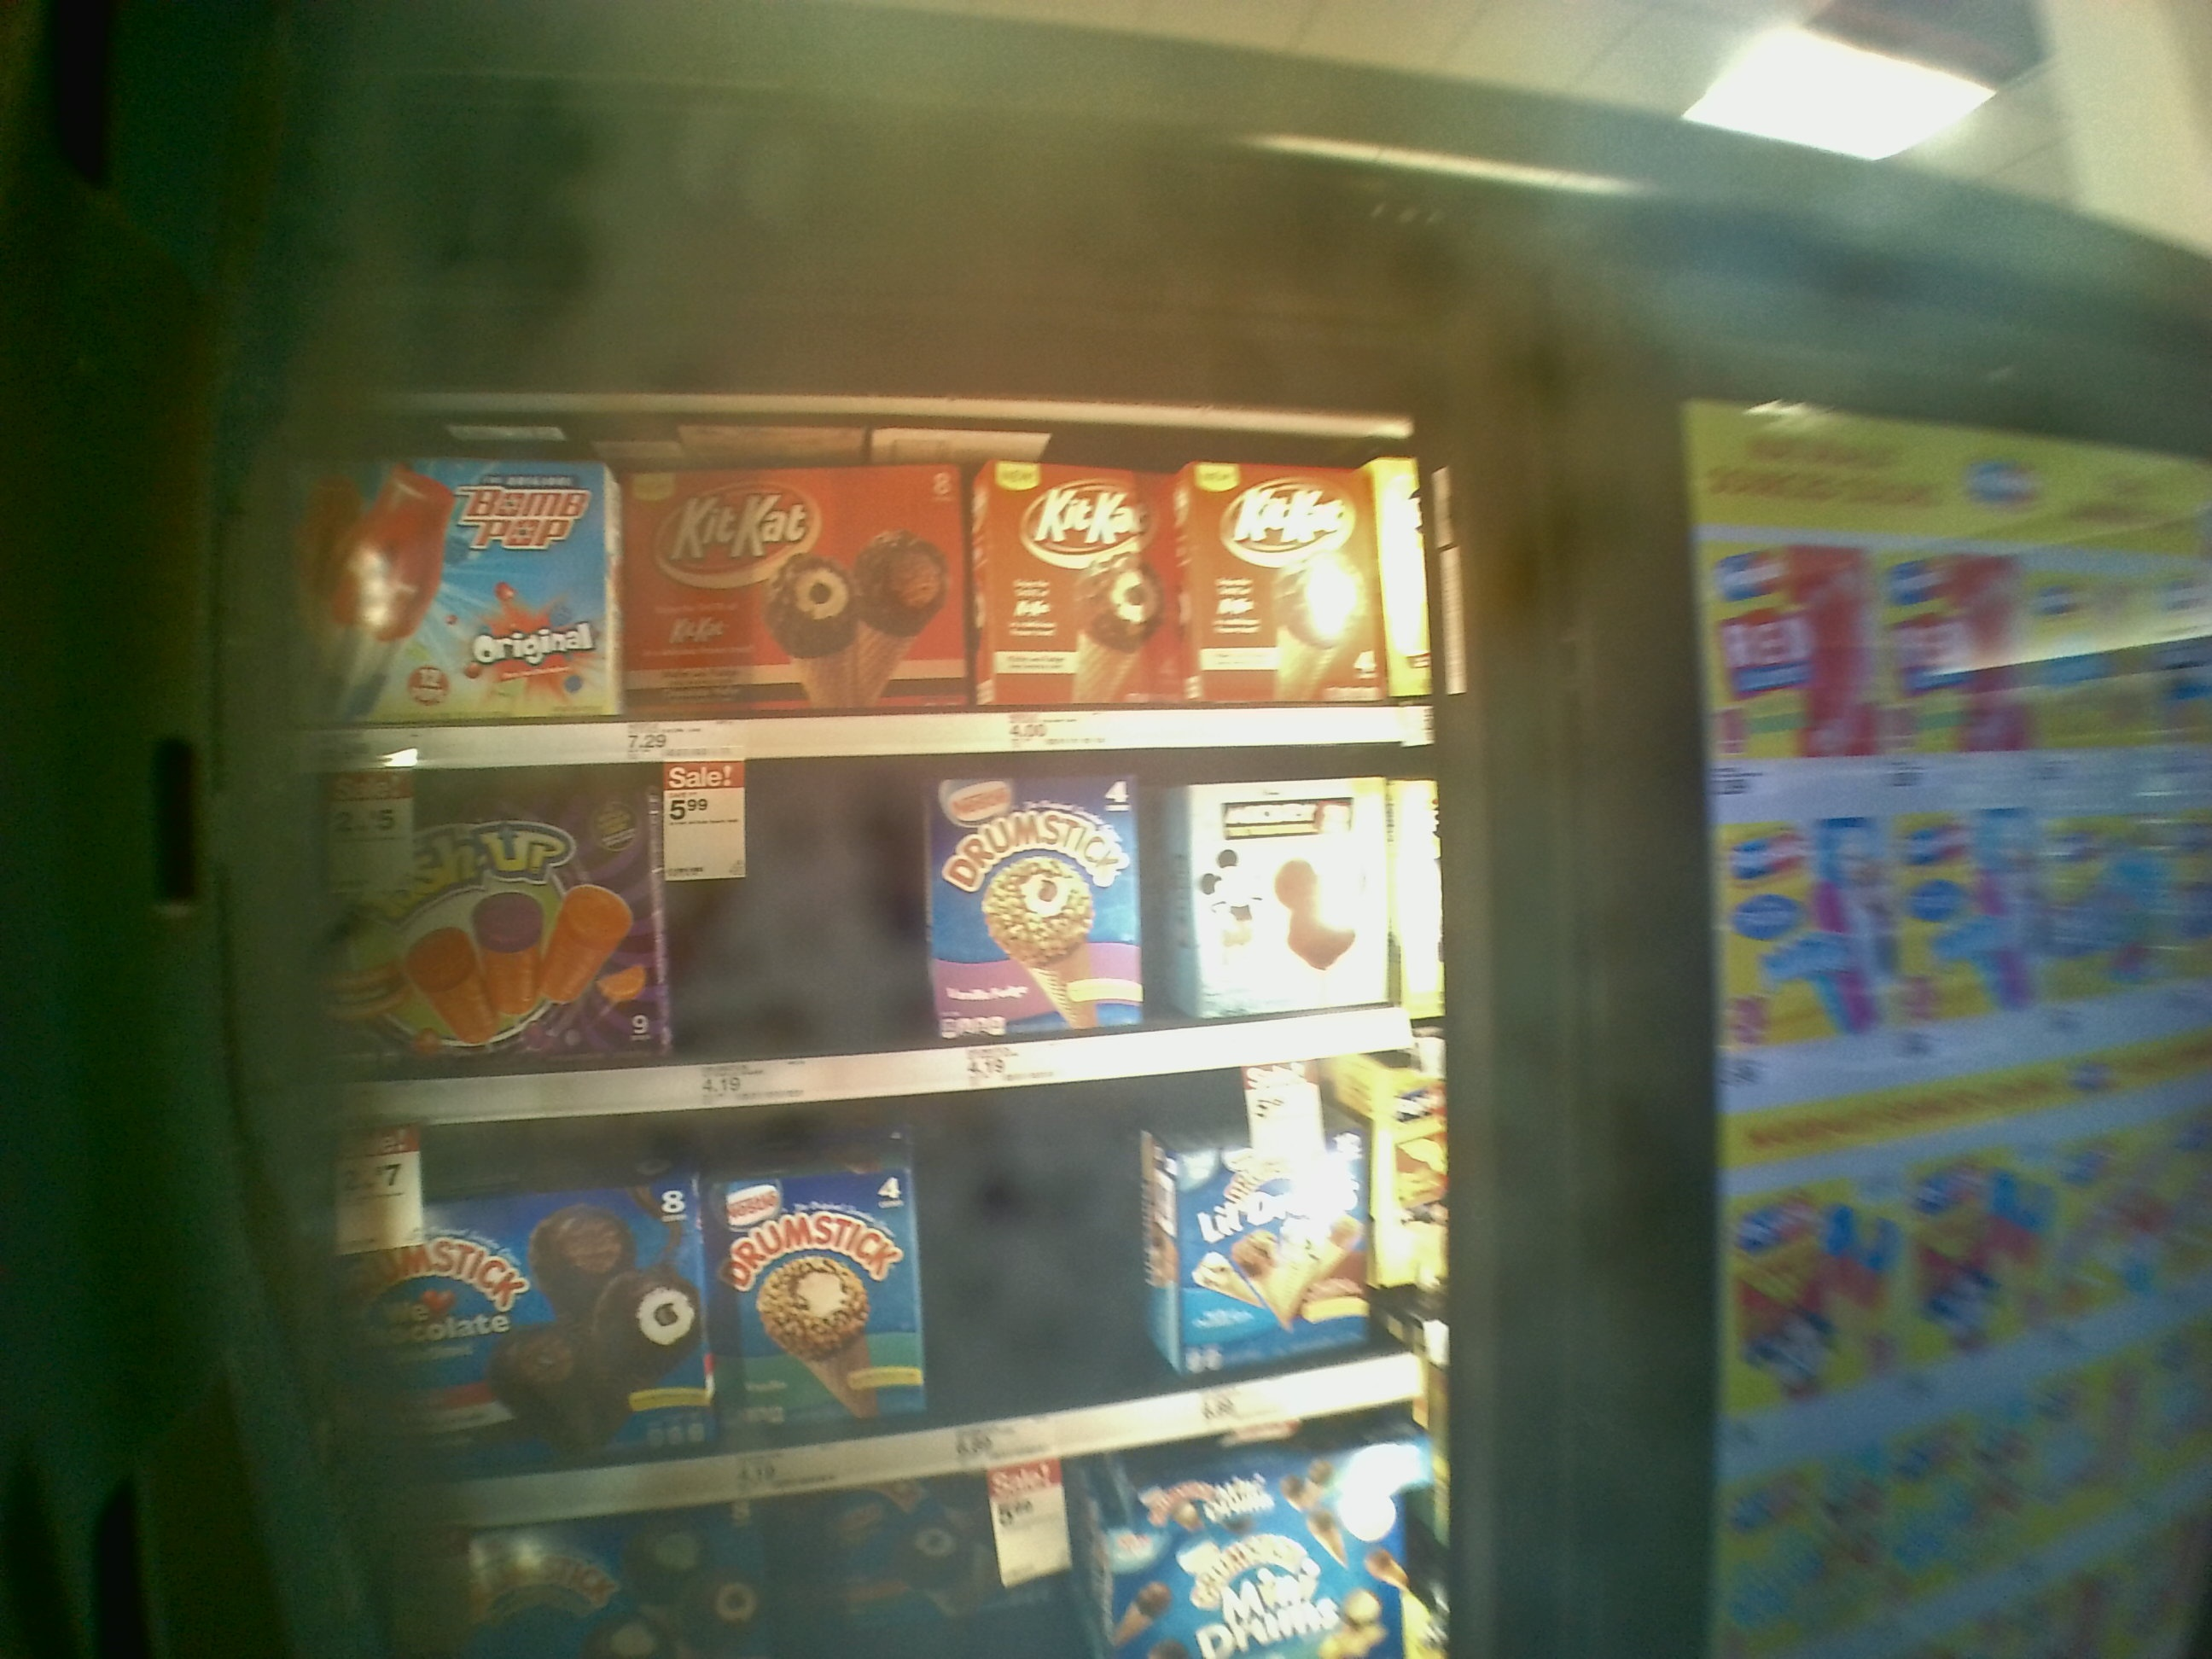shelf: (279, 1042, 1451, 1516), (280, 732, 1458, 1126), (265, 385, 1460, 772)
